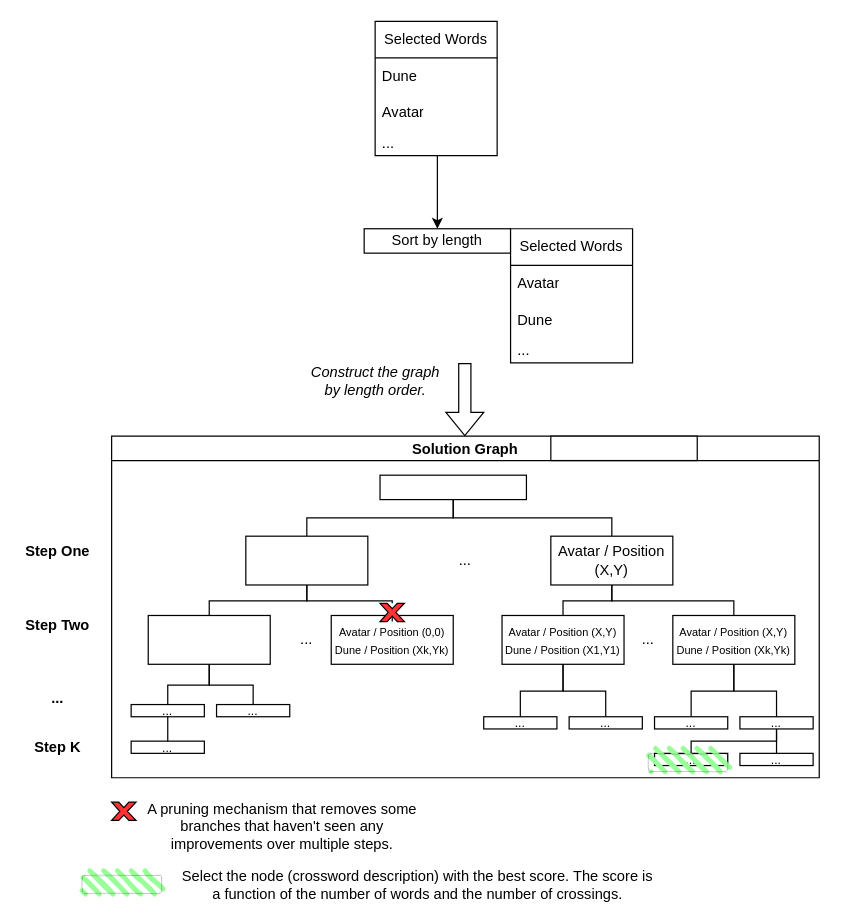
The diagram is 841 pixels wide and 924 high, and some of its shapes have lost their labels. Here are the shapes that lost their labels. From the top down, the box of each, then its label:
(550, 435, 697, 461): Grid Size (MxN)
(379, 474, 526, 500): Empty Node
(245, 535, 368, 585): Avatar / Position (0,0)
(147, 614, 270, 664): Avatar / Position (0,0) Dune / Position (X1,Y1)
